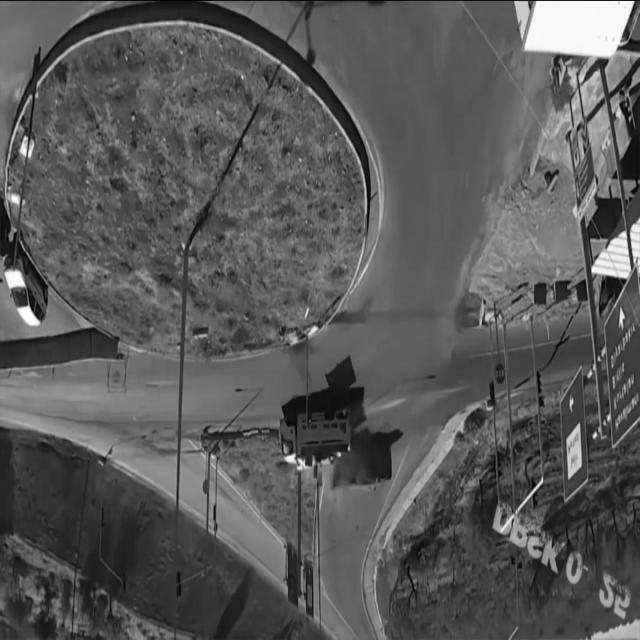severe: (327, 432, 394, 510)
